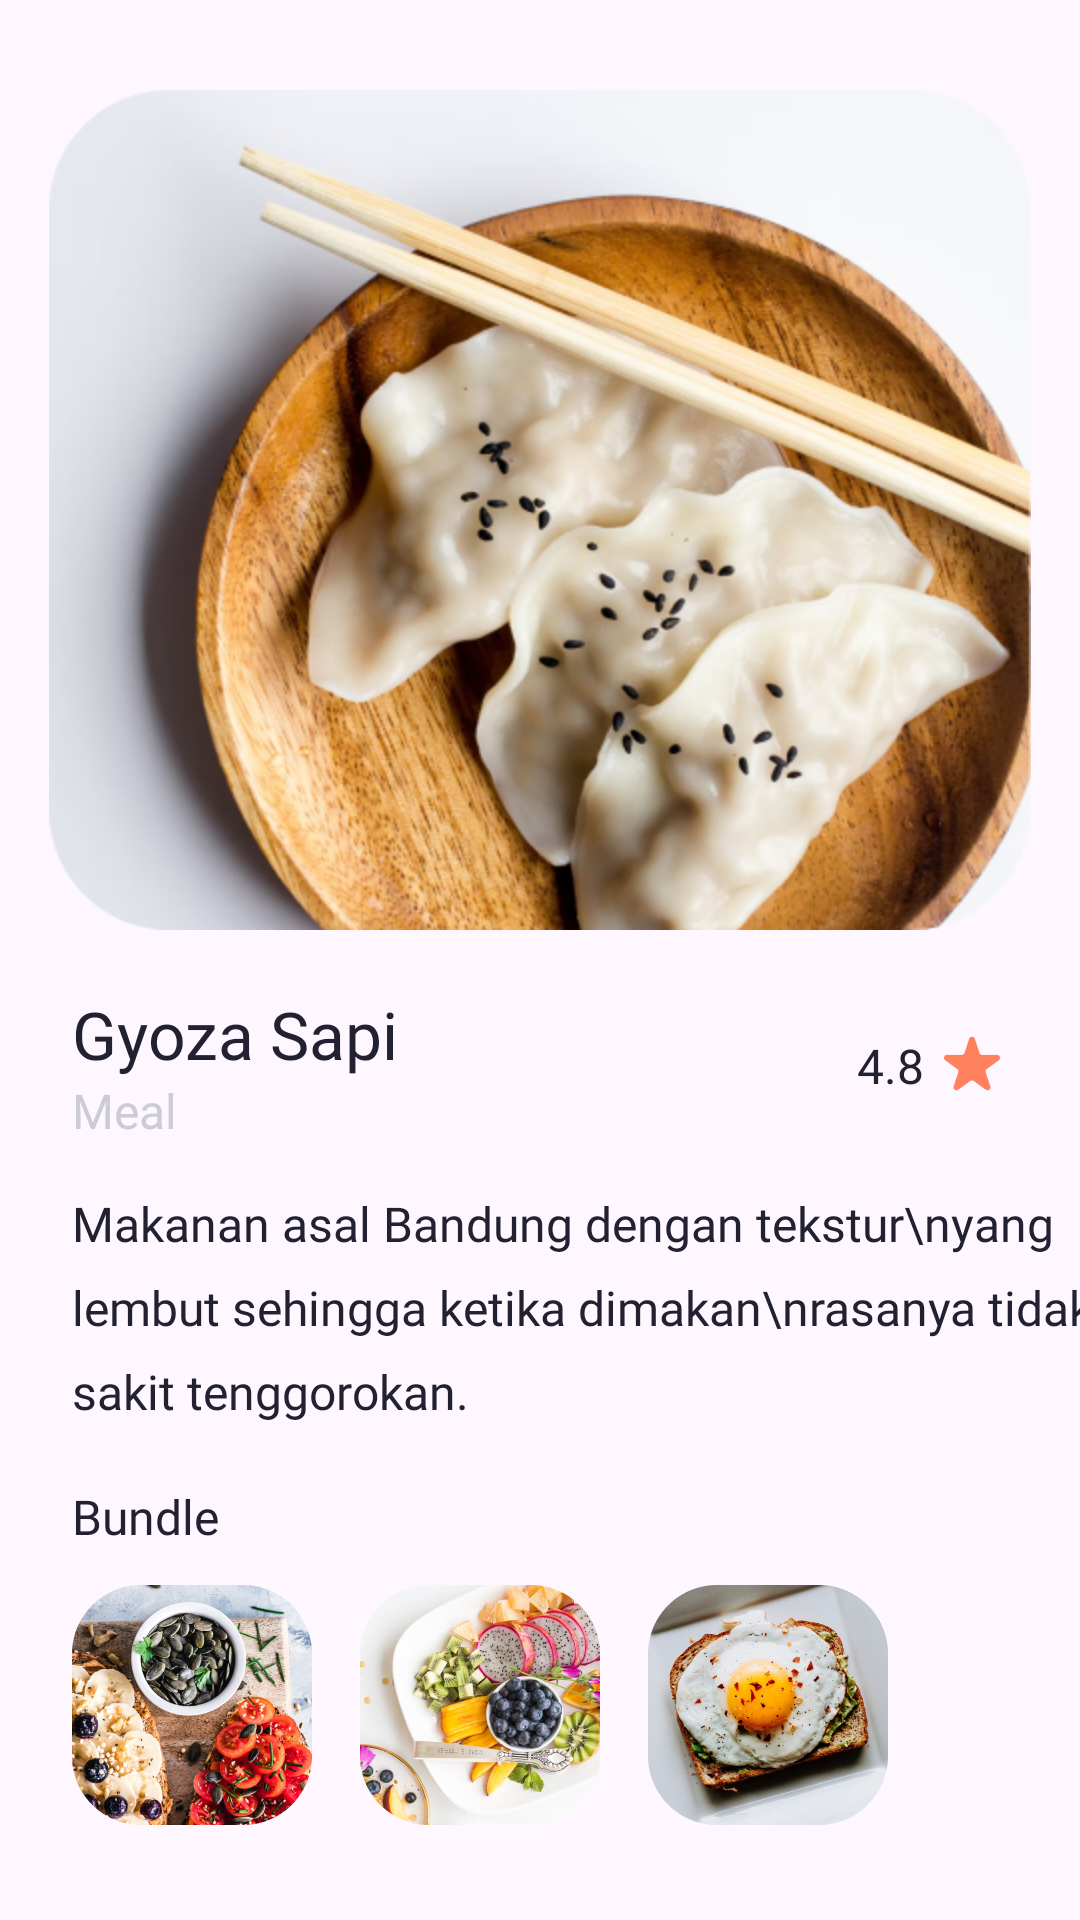

Icons on this 1080px×1920px Android screen, each with the point to tap as (x=x, y=y):
star: (x=972, y=1063)
